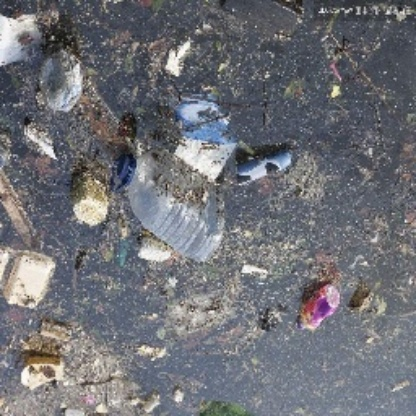bottle: (116, 153, 229, 261), (294, 284, 343, 335)
